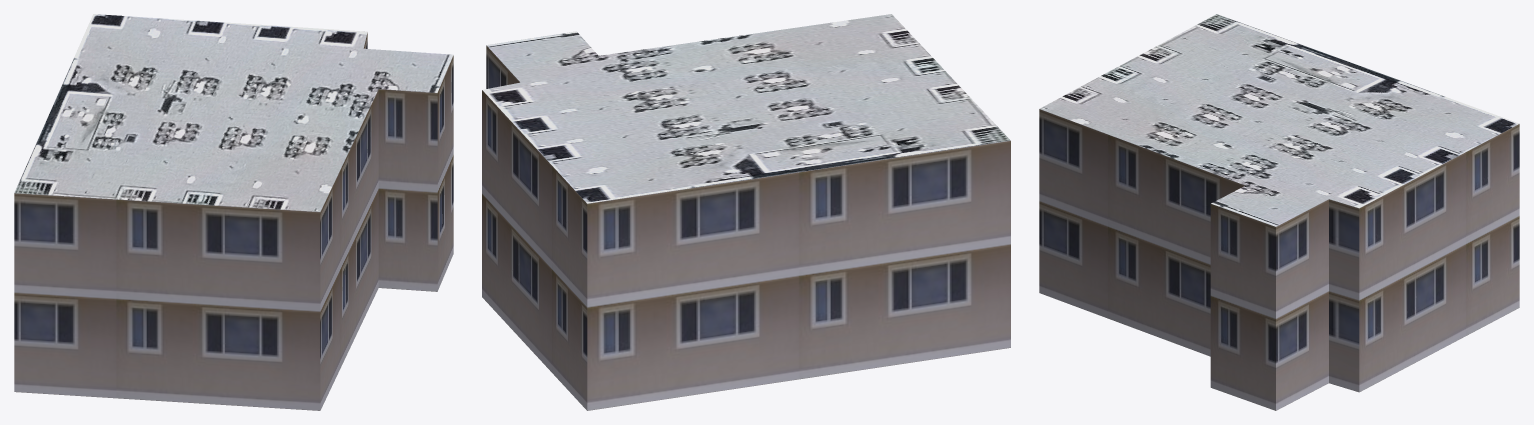
Rendered from ResTex__2501.fbx.
3 views of the same model, side by side, from view 1: azimuth 30°, elevation 25°; view 2: azimuth 150°, elevation 25°; view 3: azimuth 270°, elevation 25° (orthographic). The views are drawn at different scales.
Visible parts, largest first — view 1: CityEngineMaterial_21_m, CityEngineMaterial_2_m; view 2: CityEngineMaterial_21_m, CityEngineMaterial_2_m; view 3: CityEngineMaterial_21_m, CityEngineMaterial_2_m.
Boxes of the visible parts, x1,y1,x2,y2 form: CityEngineMaterial_21_m: (14, 32, 453, 410); CityEngineMaterial_2_m: (14, 14, 453, 211); CityEngineMaterial_21_m: (482, 45, 1010, 410); CityEngineMaterial_2_m: (482, 14, 1010, 203); CityEngineMaterial_21_m: (1039, 109, 1519, 410); CityEngineMaterial_2_m: (1039, 14, 1519, 226).
Bounding box in the file's own units: 14.88 × 6 × 14.19.
Materials: 2 (2 with a texture image).
